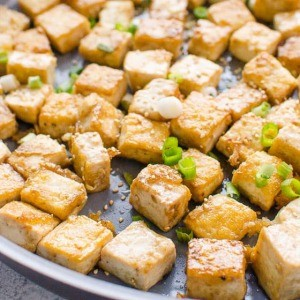tofu_brain food: (41, 74, 283, 213)
